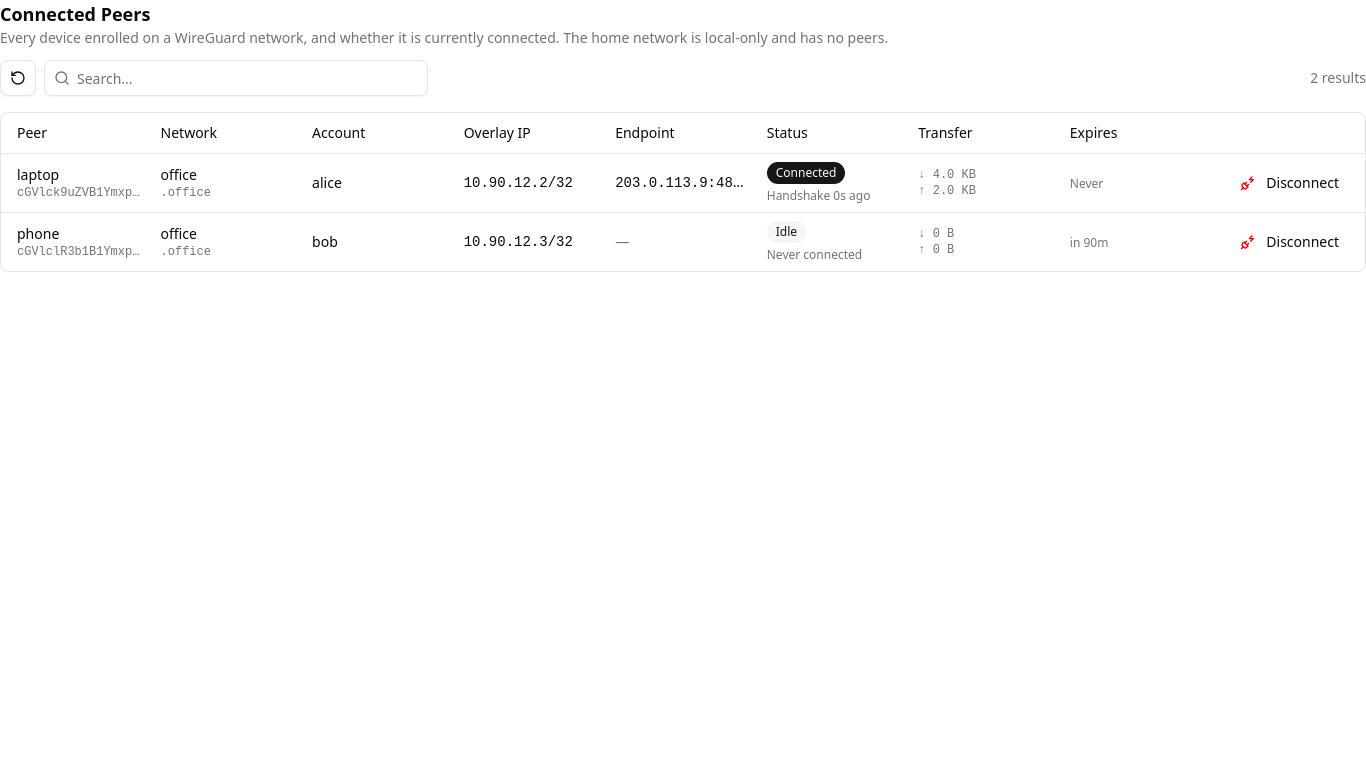
Test case: ConnectedPeersPanel › disconnect › confirms before disconnecting and names the peer and network
The image size is (1366, 768).
Check: the text "laptop" is shown, box [17, 164, 59, 184]
Click the button "Disconnect" in the row of "laptop".
click(1290, 182)  # box [1230, 166, 1349, 198]
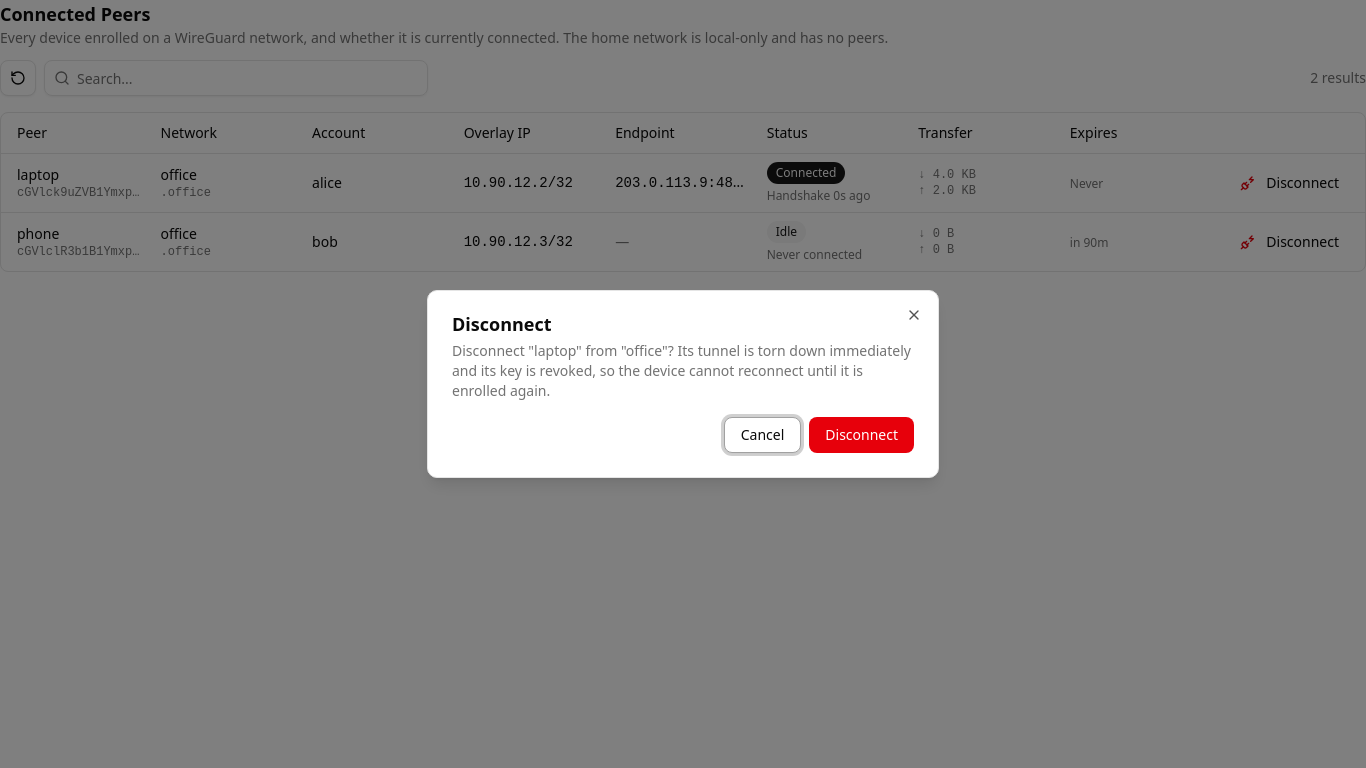
Check: the text "Disconnect \"laptop\" from \"office\"?" is shown, box [452, 341, 911, 400]
